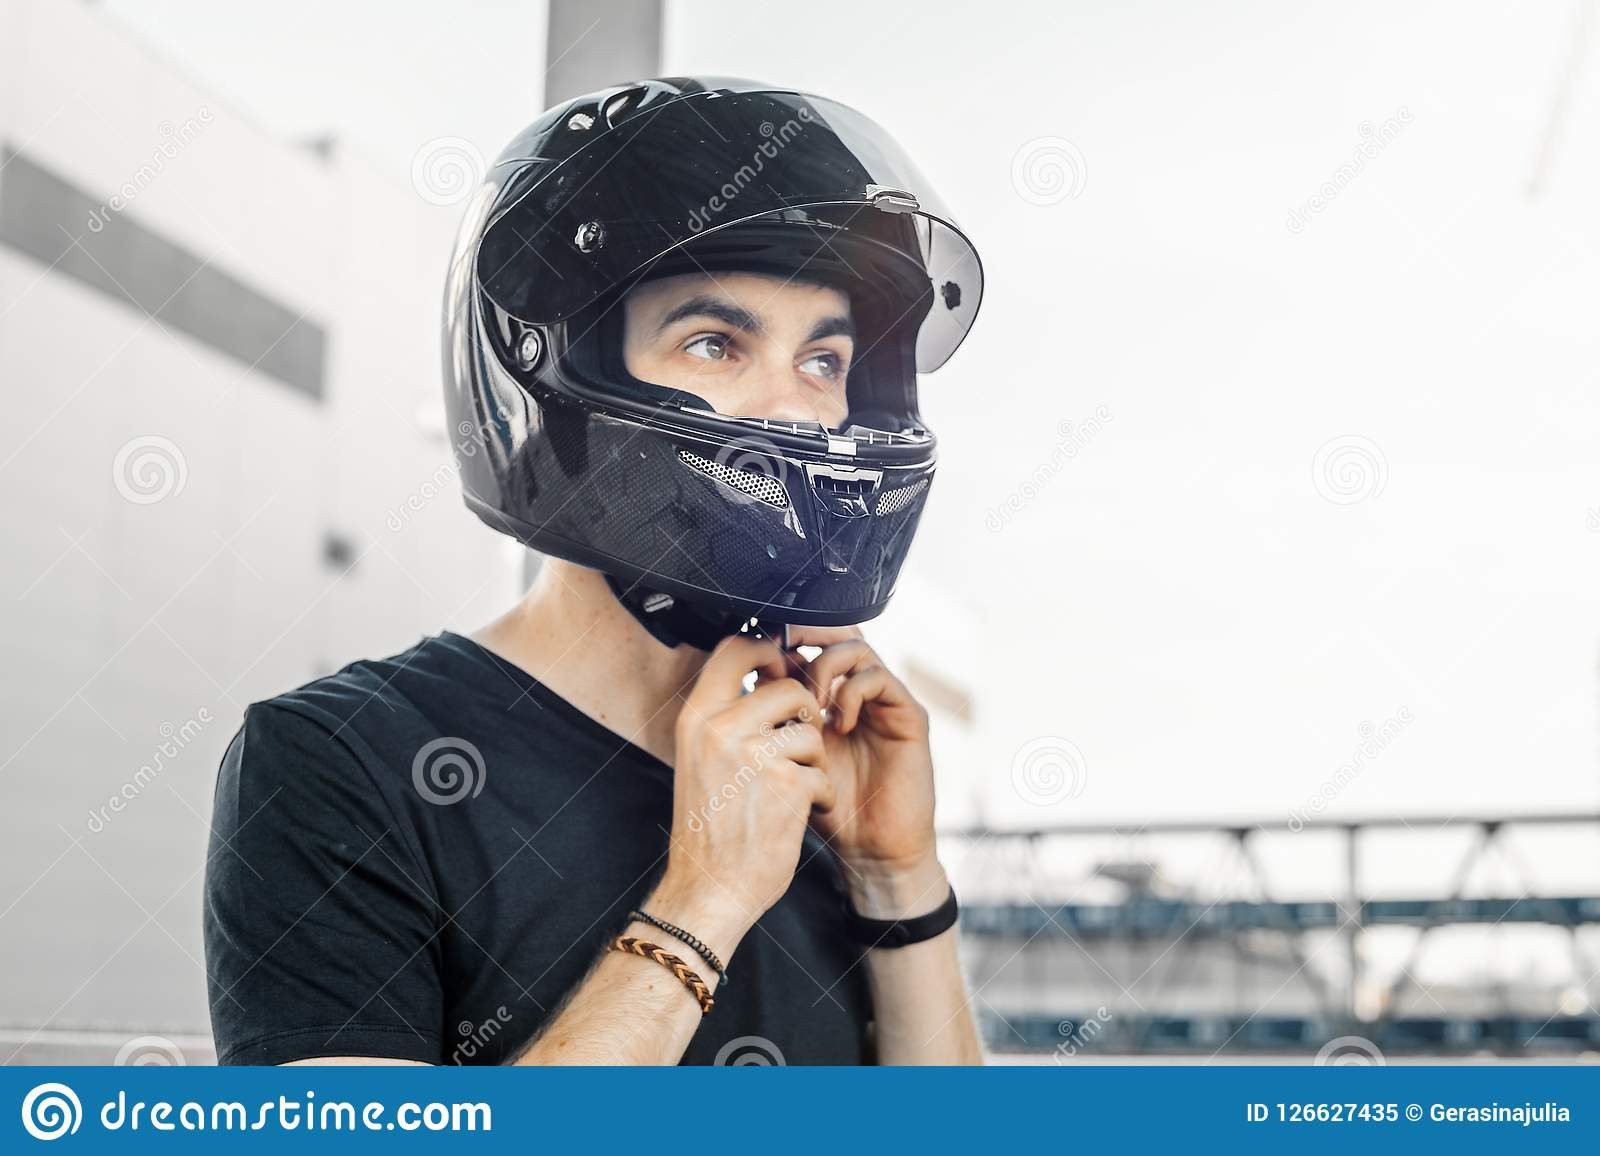helmet: (465, 101, 975, 653)
